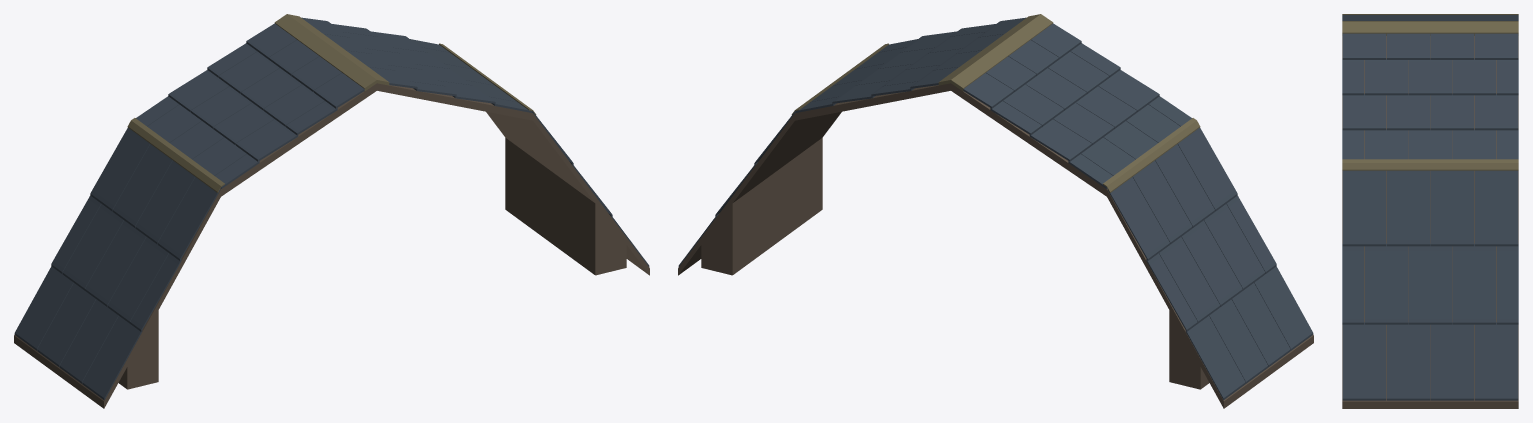
Rendered from rpg-mansion-mansard-roof-span-01.glb.
3 views of the same model, side by side, from view 1: azimuth 30°, elevation 25°; view 2: azimuth 150°, elevation 25°; view 3: azimuth 270°, elevation 25° (orthographic). The views are drawn at different scales.
Visible parts, largest first — view 1: rpg-mansion-mansard-roof-span-01; view 2: rpg-mansion-mansard-roof-span-01; view 3: rpg-mansion-mansard-roof-span-01.
Part boxes in pixels (<box>): rpg-mansion-mansard-roof-span-01: <box>14,14,649,408</box>; rpg-mansion-mansard-roof-span-01: <box>678,14,1313,408</box>; rpg-mansion-mansard-roof-span-01: <box>1342,14,1518,408</box>.
Size of the model in its own units: 4.2 by 1.93 by 1.2.
